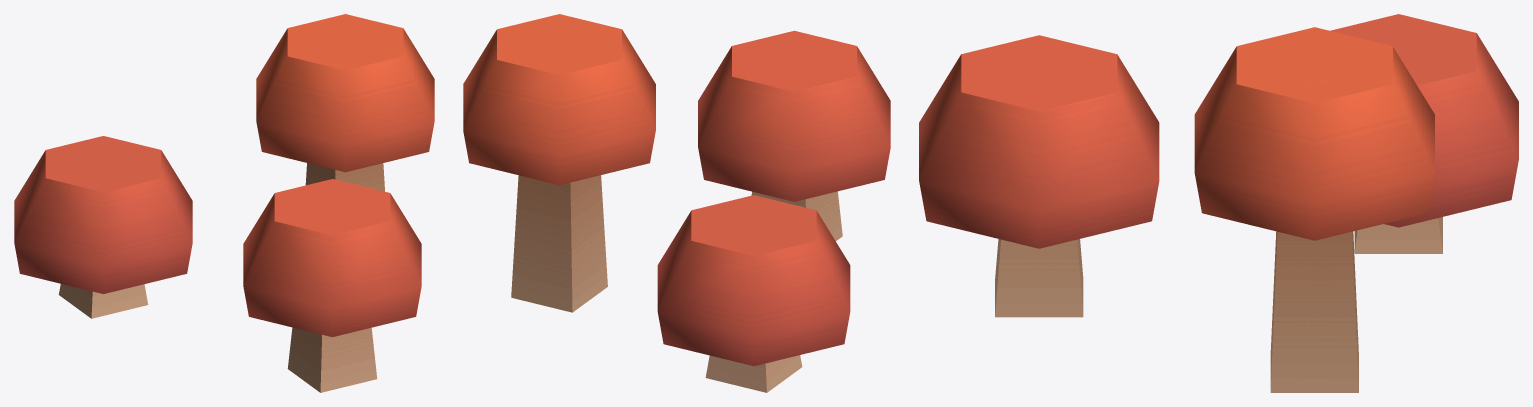
Rendered from mushrooms.glb.
3 views of the same model, side by side, from view 1: azimuth 30°, elevation 25°; view 2: azimuth 150°, elevation 25°; view 3: azimuth 270°, elevation 25° (orthographic). The views are drawn at different scales.
Parts seen in each view (by area): view 1: mushrooms; view 2: mushrooms; view 3: mushrooms.
Boxes of the visible parts, x1,y1,x2,y2 form: mushrooms: (14,14,434,392); mushrooms: (463,14,890,392); mushrooms: (919,14,1518,392).
Bounding box in the file's own units: 0.5242 × 0.295 × 0.5188.
Materials: 1 (1 with a texture image).
